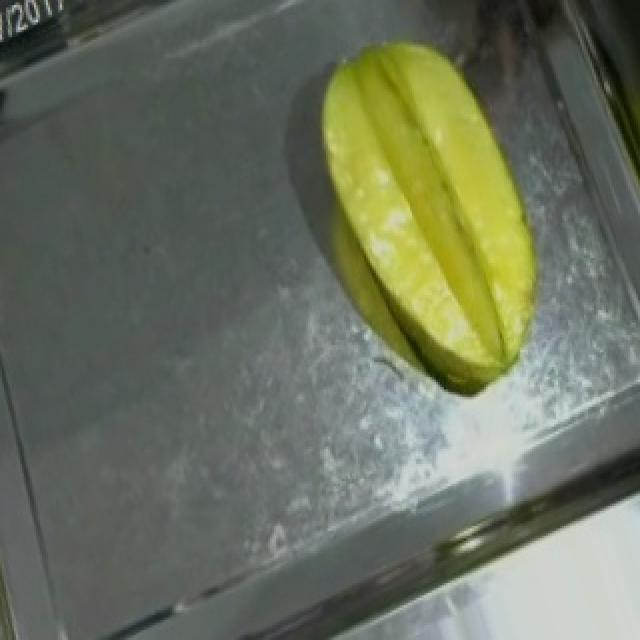fruit: (262, 12, 596, 390)
